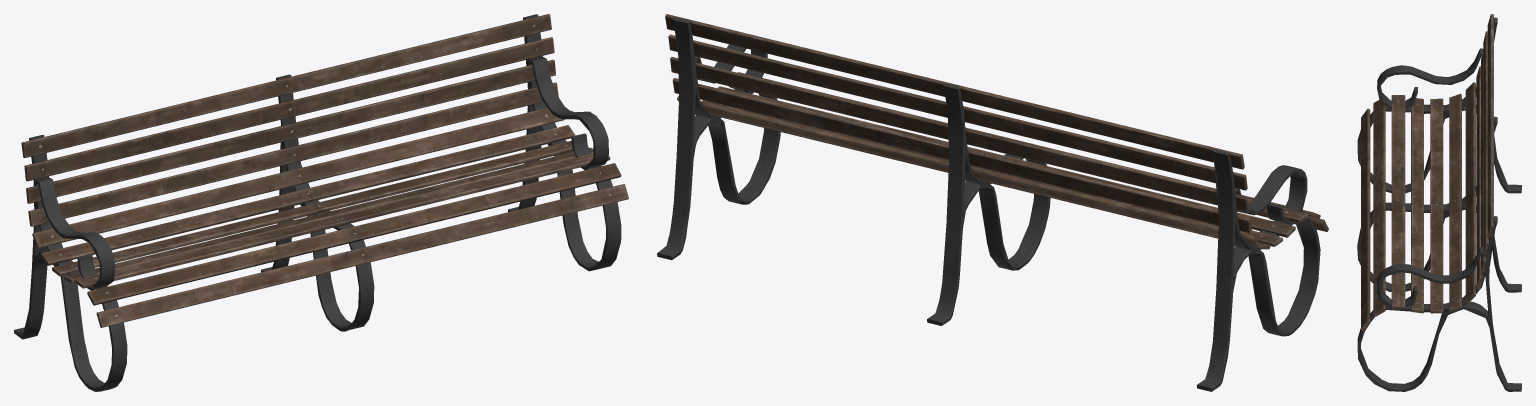
Rendered from prop_bench.glb.
3 views of the same model, side by side, from view 1: azimuth 30°, elevation 25°; view 2: azimuth 150°, elevation 25°; view 3: azimuth 270°, elevation 25° (orthographic). The views are drawn at different scales.
Parts seen in each view (by area): view 1: bench_armrest_R_Bench_0; view 2: bench_armrest_R_Bench_0; view 3: bench_armrest_R_Bench_0.
Part boxes in pixels (x1=…): bench_armrest_R_Bench_0: x1=14, y1=14, x2=628, y2=391; bench_armrest_R_Bench_0: x1=657, y1=14, x2=1328, y2=391; bench_armrest_R_Bench_0: x1=1357, y1=14, x2=1521, y2=391.
Size of the model in its own units: 1.75 by 0.6601 by 0.5751.
Materials: 1 (1 with a texture image).
